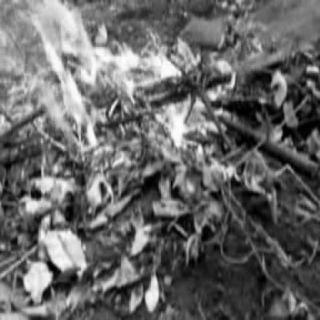Fire: (17, 2, 235, 170)
